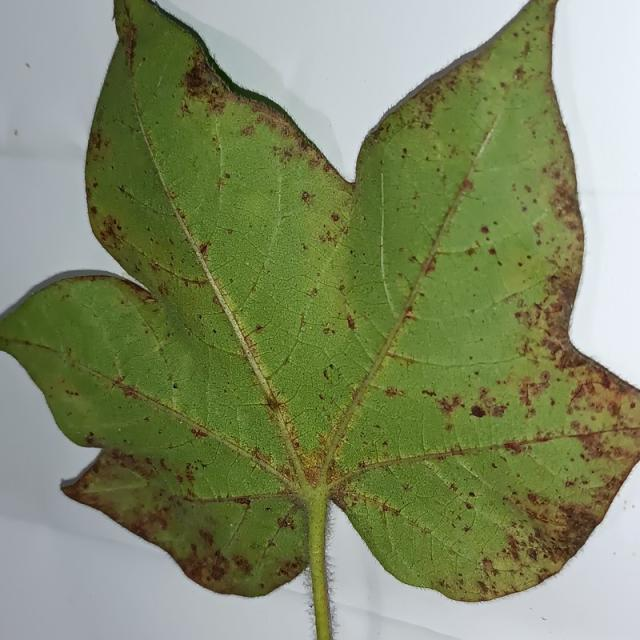Bacterial_Blight: (545, 501, 606, 553), (311, 350, 362, 400), (547, 176, 580, 241), (448, 385, 512, 418), (256, 334, 298, 381), (131, 506, 176, 543), (554, 274, 580, 330), (519, 369, 553, 408), (577, 432, 609, 461), (98, 216, 125, 249), (297, 459, 325, 488), (489, 554, 530, 572), (378, 378, 407, 403), (204, 552, 229, 581), (184, 65, 208, 95), (379, 351, 423, 367), (271, 141, 297, 166), (113, 380, 142, 402), (124, 28, 138, 71), (117, 184, 142, 205), (540, 336, 564, 357), (182, 457, 211, 474), (569, 381, 590, 404), (437, 396, 461, 415), (319, 225, 340, 246), (251, 449, 273, 468), (242, 323, 265, 340), (232, 554, 250, 572), (481, 557, 496, 578), (266, 398, 286, 413), (247, 276, 261, 295), (503, 440, 523, 453), (458, 177, 474, 193), (422, 259, 436, 275), (190, 426, 207, 439), (239, 123, 254, 137), (520, 40, 532, 57), (513, 66, 526, 81), (234, 497, 251, 508), (216, 175, 227, 192), (570, 420, 583, 433), (301, 191, 313, 205), (277, 517, 292, 528), (84, 433, 97, 445), (346, 314, 355, 330), (527, 548, 538, 561), (198, 243, 208, 257), (404, 309, 416, 320), (421, 389, 436, 397), (465, 247, 476, 257), (323, 326, 335, 335), (66, 389, 79, 397), (308, 288, 318, 297), (89, 205, 98, 215), (480, 225, 490, 234), (92, 463, 100, 474), (323, 368, 330, 380), (144, 297, 156, 304), (156, 76, 163, 88), (117, 185, 126, 194), (524, 184, 532, 193), (256, 324, 264, 332), (488, 248, 496, 256), (331, 214, 339, 222), (87, 431, 95, 439), (464, 502, 473, 509), (468, 491, 476, 498), (339, 284, 345, 292), (224, 173, 231, 179), (319, 394, 325, 401), (212, 136, 218, 142), (521, 206, 527, 212), (172, 383, 178, 389), (402, 148, 407, 155), (636, 401, 640, 409), (227, 229, 233, 234), (517, 262, 523, 267), (212, 328, 217, 334)
Cotton: (0, 0, 639, 639)
